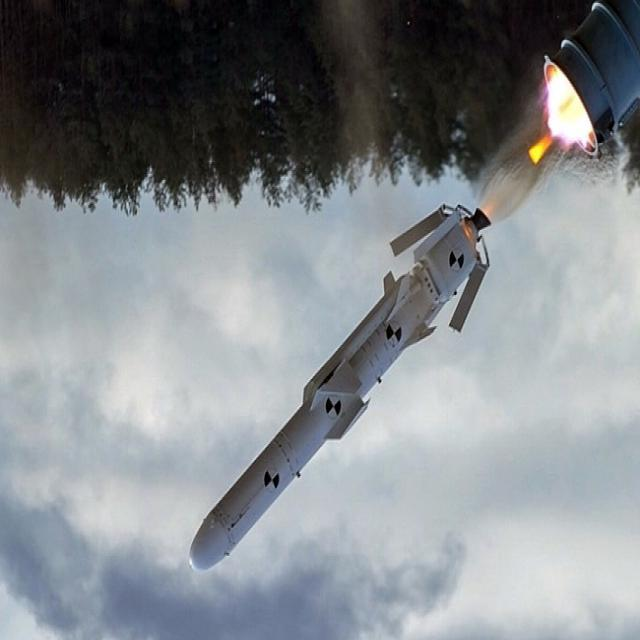missile: (186, 194, 504, 573)
